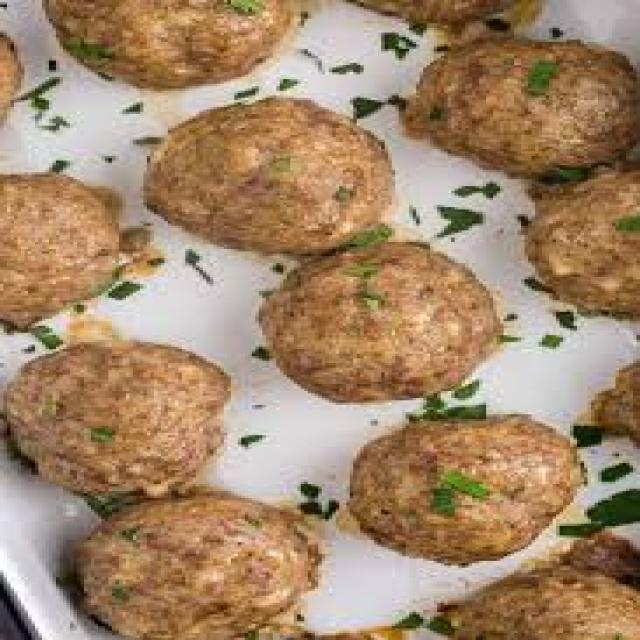Meatball: (312, 408, 613, 575), (247, 234, 523, 408), (131, 85, 411, 254), (54, 480, 340, 640), (0, 330, 269, 498), (391, 25, 640, 169), (58, 0, 293, 98)
